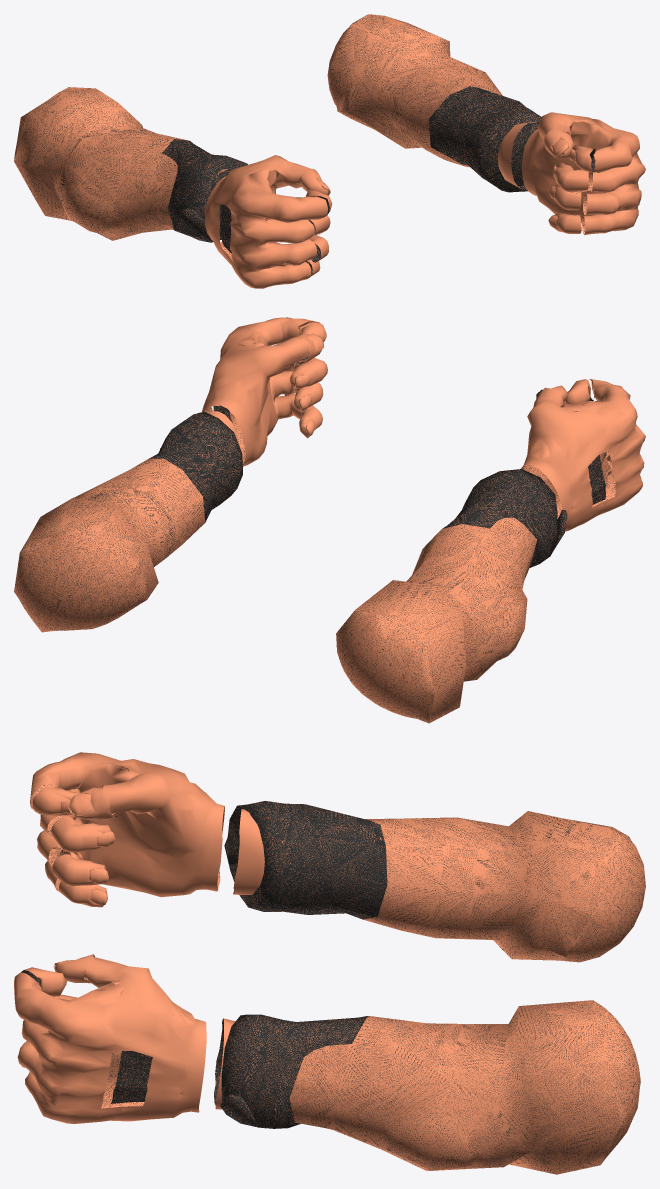
Rendered from hand06.FBX.
The picture shows the model from 3 angles, top to bottom: view 1: azimuth 30°, elevation 25°; view 2: azimuth 150°, elevation 25°; view 3: azimuth 270°, elevation 25°; orthographic projection. The views are drawn at different scales.
Parts seen in each view (by area): view 1: ID237, Forearm2, group_1, group_0, ID253, Fore_Arm, ID28, ID52, ID76, ID14, ID58, ID22 (+2 smaller); view 2: ID237, Forearm2, group_1, group_0, Fore_Arm, ID253, ID28, ID147, ID14; view 3: Forearm2, ID237, group_0, group_1, Fore_Arm, ID253, ID153, ID129, ID46, ID117, ID177, ID123 (+4 smaller).
Boxes of the visible parts, x1,y1,x2,y2 form: ID237: (14, 87, 188, 240); Forearm2: (327, 14, 502, 167); group_1: (205, 155, 327, 288); group_0: (521, 112, 645, 235); ID253: (428, 86, 541, 192); Fore_Arm: (162, 139, 247, 242); ID28: (552, 162, 588, 192); ID52: (498, 121, 538, 190); ID76: (544, 129, 573, 158); ID14: (549, 184, 581, 210); ID58: (548, 213, 581, 233); ID22: (569, 145, 595, 172); ID237: (336, 517, 537, 723); Forearm2: (14, 458, 205, 632); group_1: (521, 379, 645, 531); group_0: (202, 317, 319, 466); Fore_Arm: (442, 469, 567, 567); ID253: (149, 411, 242, 522); ID28: (290, 358, 327, 389); ID147: (588, 454, 605, 504); ID14: (293, 382, 323, 411); Forearm2: (289, 1000, 640, 1174); ID237: (363, 811, 645, 962); group_0: (14, 955, 206, 1123); group_1: (30, 752, 224, 897); Fore_Arm: (224, 801, 387, 919); ID253: (220, 1014, 367, 1128); ID153: (233, 809, 264, 894); ID129: (51, 815, 115, 852); ID46: (111, 1051, 152, 1103); ID117: (52, 854, 108, 886); ID177: (69, 786, 117, 820); ID123: (32, 785, 77, 816).
Size of the model in its own units: 91.53 by 32.81 by 91.52.
